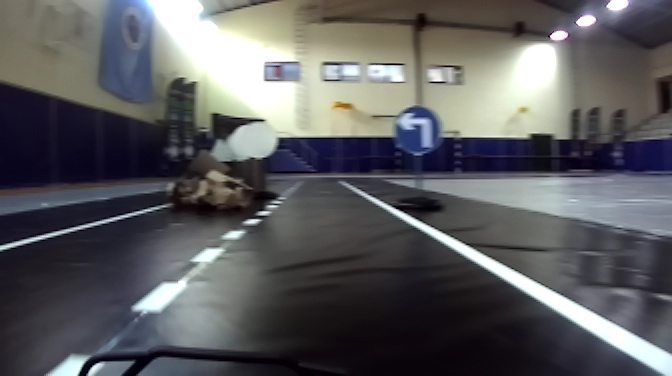sola_donus: (393, 106, 437, 152)
